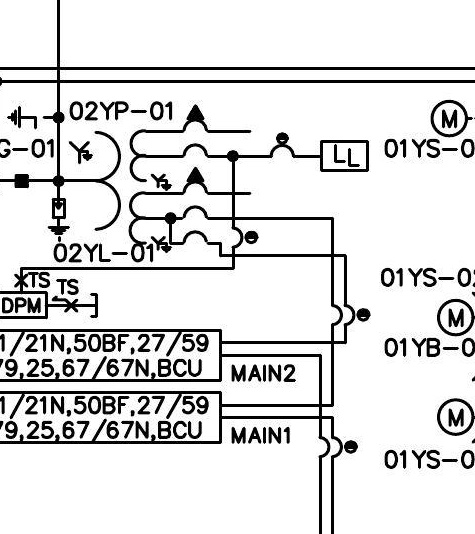115_gs: (6, 105, 47, 130)
115_la: (46, 197, 71, 243)
115_vt_3p: (68, 103, 209, 253)
LL: (318, 139, 369, 172)
